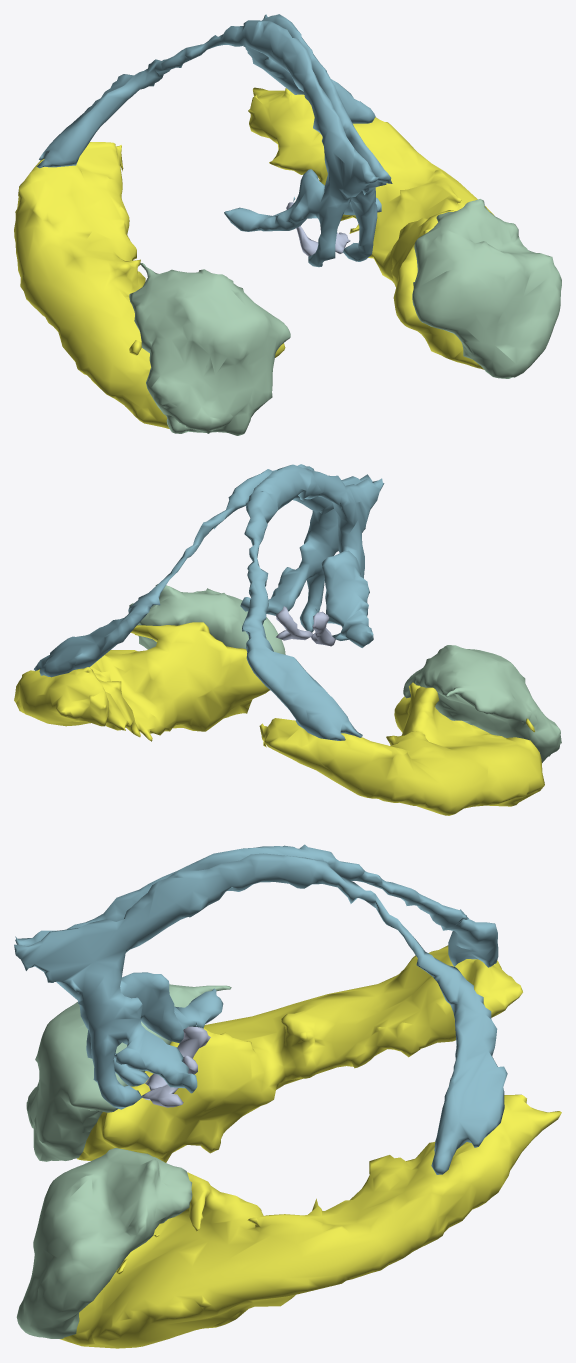
The model's file is limbic.lod1.glb.
3 renders of one model, top to bottom at view 1: azimuth 30°, elevation 25°; view 2: azimuth 150°, elevation 25°; view 3: azimuth 270°, elevation 25°, orthographic. The views are drawn at different scales.
Visible parts, largest first — view 1: hippocampus-r, amygdala-r, amygdala-l, hippocampus-l, fornix-of-forebrain-r, fornix-of-forebrain-l; view 2: hippocampus-r, hippocampus-l, fornix-of-forebrain-r, fornix-of-forebrain-l, amygdala-r, amygdala-l, mammillothalamic-tract-l, mammillothalamic-tract-r; view 3: hippocampus-l, fornix-of-forebrain-l, hippocampus-r, amygdala-l, fornix-of-forebrain-r, amygdala-r, mammillothalamic-tract-r, mammillothalamic-tract-l.
Part boxes in pixels (x1,y1,x2,y2): hippocampus-r: (14, 142, 285, 428); amygdala-r: (129, 263, 290, 435); amygdala-l: (412, 199, 561, 378); hippocampus-l: (248, 87, 493, 369); fornix-of-forebrain-r: (36, 20, 378, 267); fornix-of-forebrain-l: (243, 14, 392, 261); hippocampus-r: (259, 682, 544, 815); hippocampus-l: (14, 622, 269, 741); fornix-of-forebrain-r: (242, 464, 384, 740); fornix-of-forebrain-l: (34, 464, 372, 677); amygdala-r: (403, 645, 561, 762); amygdala-l: (129, 584, 285, 654); mammillothalamic-tract-l: (276, 606, 313, 640); mammillothalamic-tract-r: (311, 611, 335, 646); hippocampus-l: (60, 1094, 561, 1348); fornix-of-forebrain-l: (14, 853, 507, 1174); hippocampus-r: (77, 945, 522, 1162); amygdala-l: (16, 1148, 192, 1338); fornix-of-forebrain-r: (15, 844, 498, 1086); amygdala-r: (26, 984, 231, 1161); mammillothalamic-tract-r: (145, 1026, 210, 1090); mammillothalamic-tract-l: (142, 1055, 197, 1107).
Bounding box in the file's own units: 0.0697 × 0.0482 × 0.0589.
